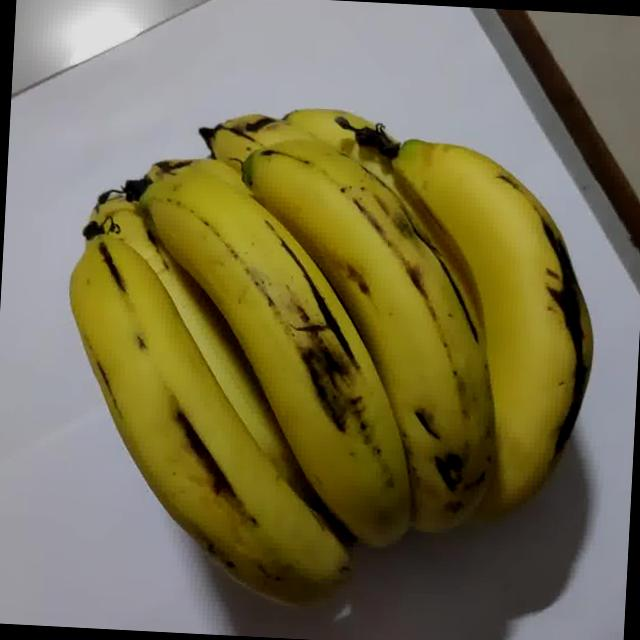banana_pacche: (15, 0, 610, 628)
